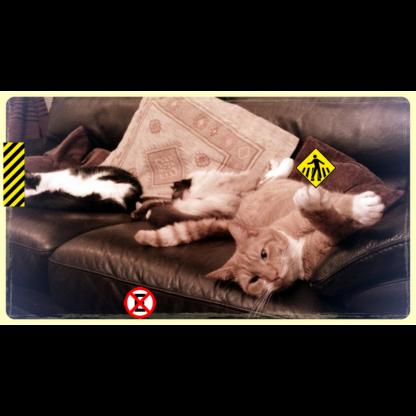A-32b: (295, 147, 336, 188)
O-MP: (3, 142, 24, 206)
R-6c: (124, 287, 156, 319)
